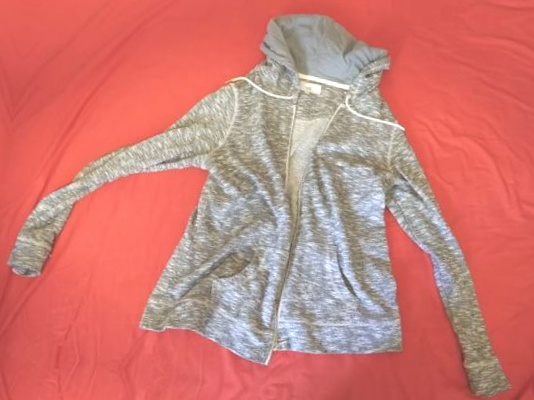Hoodie: (13, 0, 534, 400), (0, 360, 508, 400), (80, 0, 534, 20), (0, 0, 1, 327)
